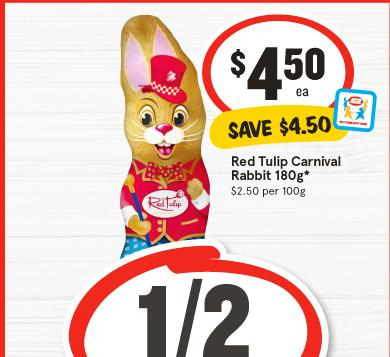description_block: (225, 151, 356, 185)
price_main: (211, 14, 347, 108)
product_image_block: (90, 20, 216, 251)
unit_price_block: (212, 107, 348, 144), (226, 184, 319, 203)
